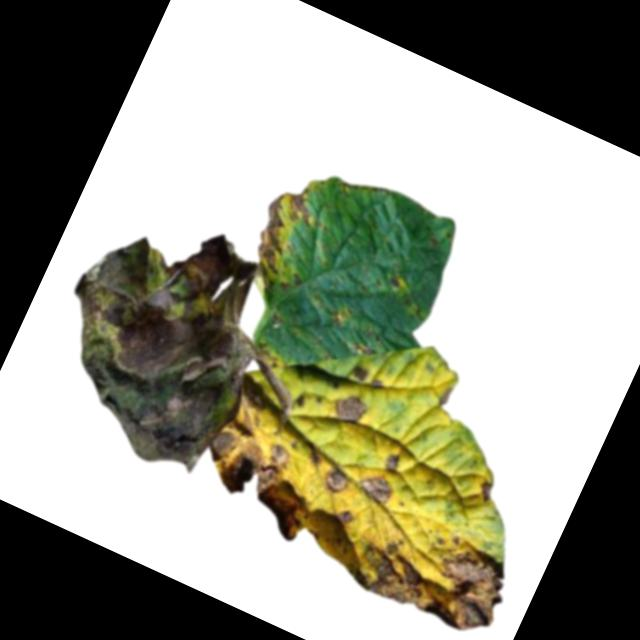Early_blight: (22, 189, 306, 490), (343, 500, 525, 640), (187, 410, 330, 543), (237, 175, 323, 292), (354, 466, 400, 507), (329, 389, 371, 431), (320, 463, 354, 496), (474, 478, 498, 505), (381, 449, 404, 475), (346, 361, 373, 383), (335, 505, 357, 527), (385, 270, 407, 289)
